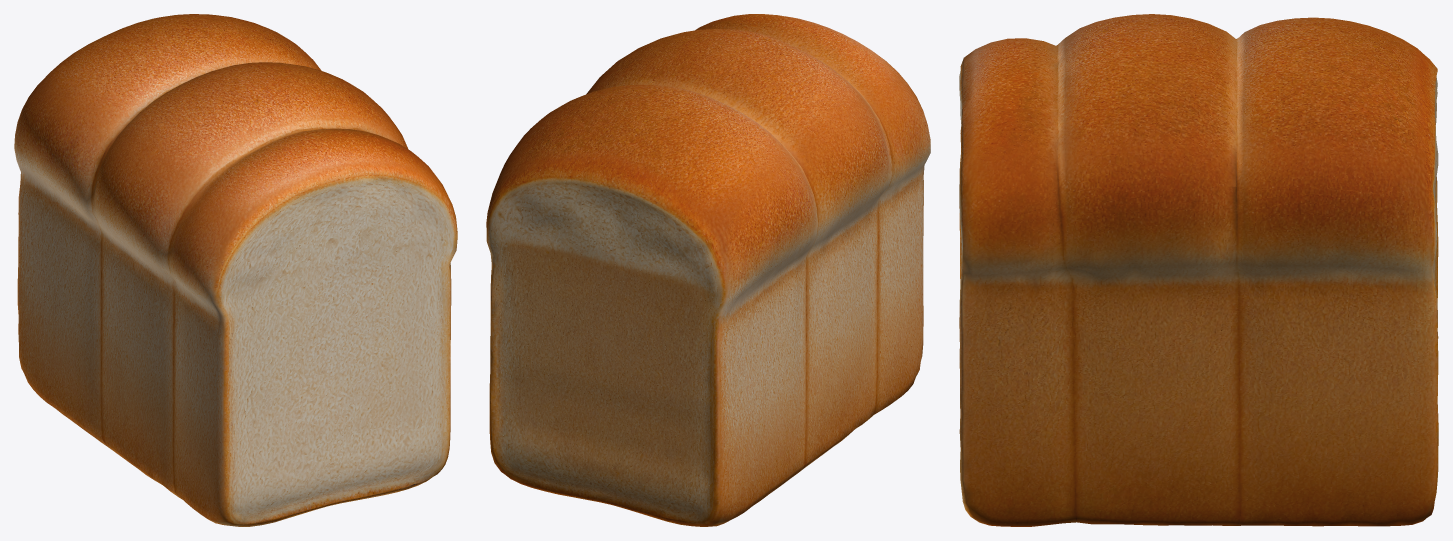
Rendered from bread.fbx.
3 views of the same model, side by side, from view 1: azimuth 30°, elevation 25°; view 2: azimuth 150°, elevation 25°; view 3: azimuth 270°, elevation 25° (orthographic). The views are drawn at different scales.
Visible parts, largest first — view 1: texture_mapping; view 2: texture_mapping; view 3: texture_mapping.
Boxes of the visible parts, left/top/right/bottom form: texture_mapping: left=14, top=14, right=457, bottom=526; texture_mapping: left=486, top=14, right=930, bottom=526; texture_mapping: left=959, top=14, right=1438, bottom=526.
Bounding box in the file's own units: 0.7569 × 0.9977 × 1.
1 material, 1 textured.
